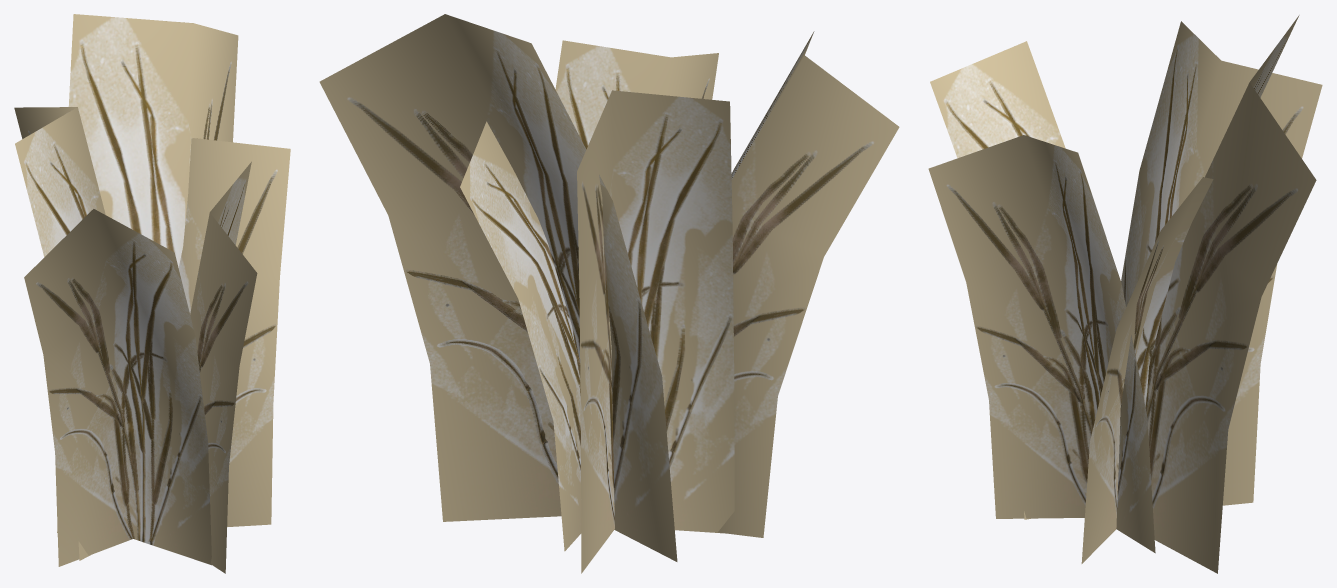
File: marsh-grass-a.dae
3 views of the same model, side by side, from view 1: azimuth 30°, elevation 25°; view 2: azimuth 150°, elevation 25°; view 3: azimuth 270°, elevation 25° (orthographic). The views are drawn at different scales.
Parts seen in each view (by area): view 1: Poaceae_a; view 2: Poaceae_a; view 3: Poaceae_a.
Part boxes in pixels (left/top/right/bottom): Poaceae_a: left=14, top=14, right=290, bottom=573; Poaceae_a: left=319, top=14, right=899, bottom=573; Poaceae_a: left=928, top=15, right=1322, bottom=573.
Size of the model in its own units: 133 by 166 by 119.
